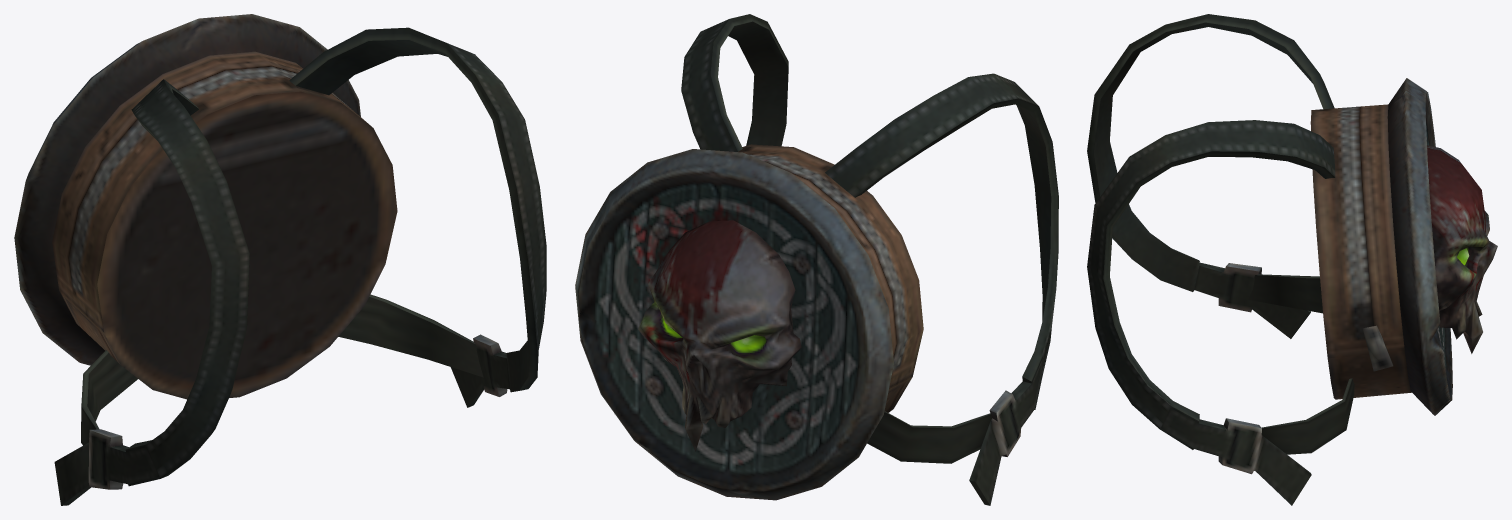
3 views of the same model, side by side, from view 1: azimuth 30°, elevation 25°; view 2: azimuth 150°, elevation 25°; view 3: azimuth 270°, elevation 25° (orthographic). The views are drawn at different scales.
Visible parts, largest first — view 1: Preview_Backpack_Viking_LV1; view 2: Preview_Backpack_Viking_LV1; view 3: Preview_Backpack_Viking_LV1.
Boxes of the visible parts, bbox=[...] form: Preview_Backpack_Viking_LV1: bbox=[14, 14, 546, 505]; Preview_Backpack_Viking_LV1: bbox=[575, 14, 1058, 505]; Preview_Backpack_Viking_LV1: bbox=[1087, 14, 1497, 505].
Bounding box in the file's own units: 96.03 × 92.87 × 97.99.
Materials: 1 (1 with a texture image).
